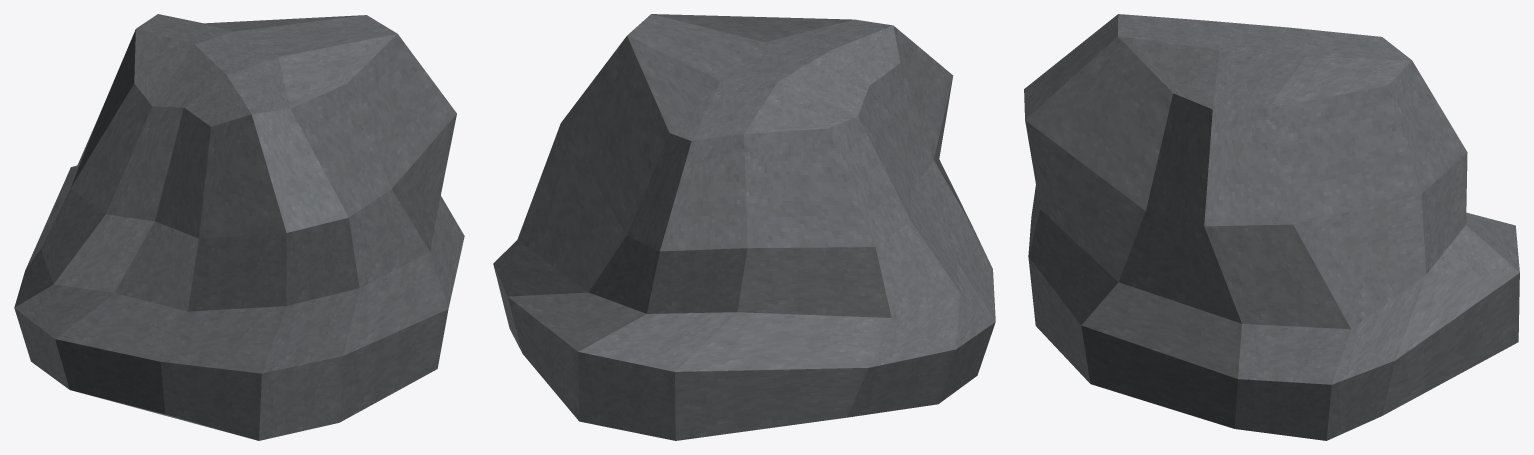
Rendered from BigRock1.glb.
3 views of the same model, side by side, from view 1: azimuth 30°, elevation 25°; view 2: azimuth 150°, elevation 25°; view 3: azimuth 270°, elevation 25° (orthographic).
Parts seen in each view (by area): view 1: BigRock1; view 2: BigRock1; view 3: BigRock1.
Boxes of the visible parts, x1,y1,x2,y2 form: BigRock1: (14,14,464,440); BigRock1: (493,14,995,440); BigRock1: (1024,14,1519,440).
Bounding box in the file's own units: 14.75 × 9.43 × 14.39.
Materials: 1 (1 with a texture image).
